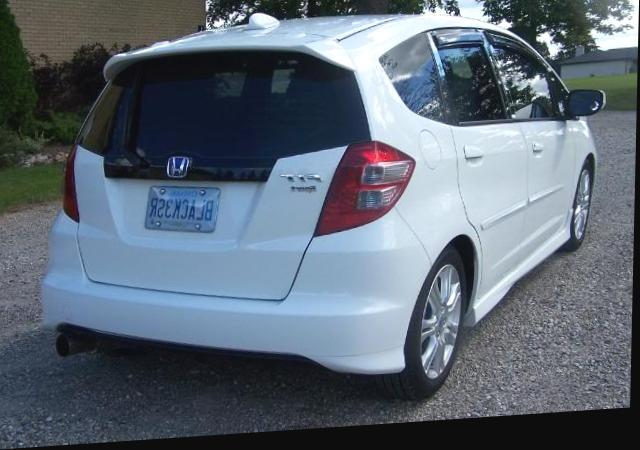License_Plate: (134, 179, 225, 245)
